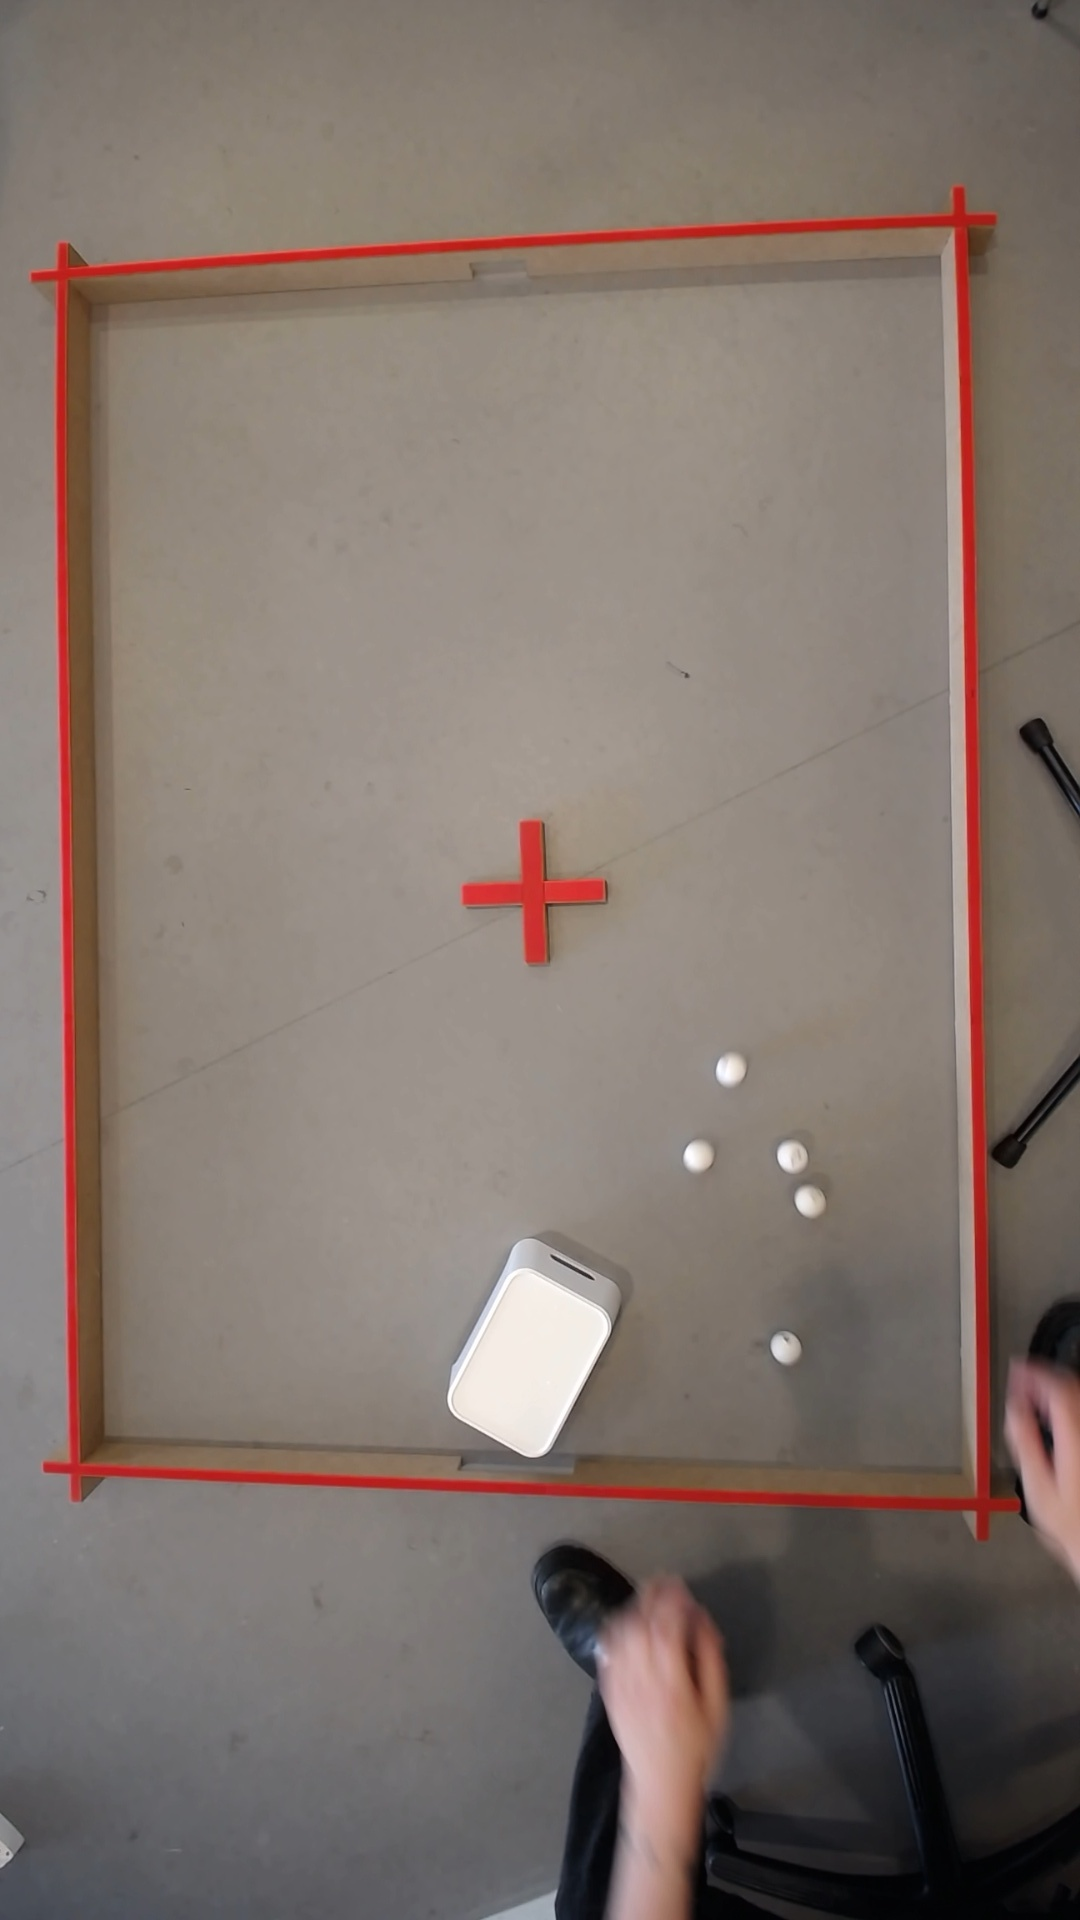balls: (595, 1634, 687, 1899), (1048, 1402, 1077, 1506), (709, 1051, 745, 1087), (678, 1139, 711, 1172), (765, 1333, 795, 1364), (773, 1141, 802, 1172), (790, 1185, 818, 1217), (1019, 1462, 1038, 1501), (655, 1644, 673, 1679)
car: (1043, 1503, 1059, 1526)
